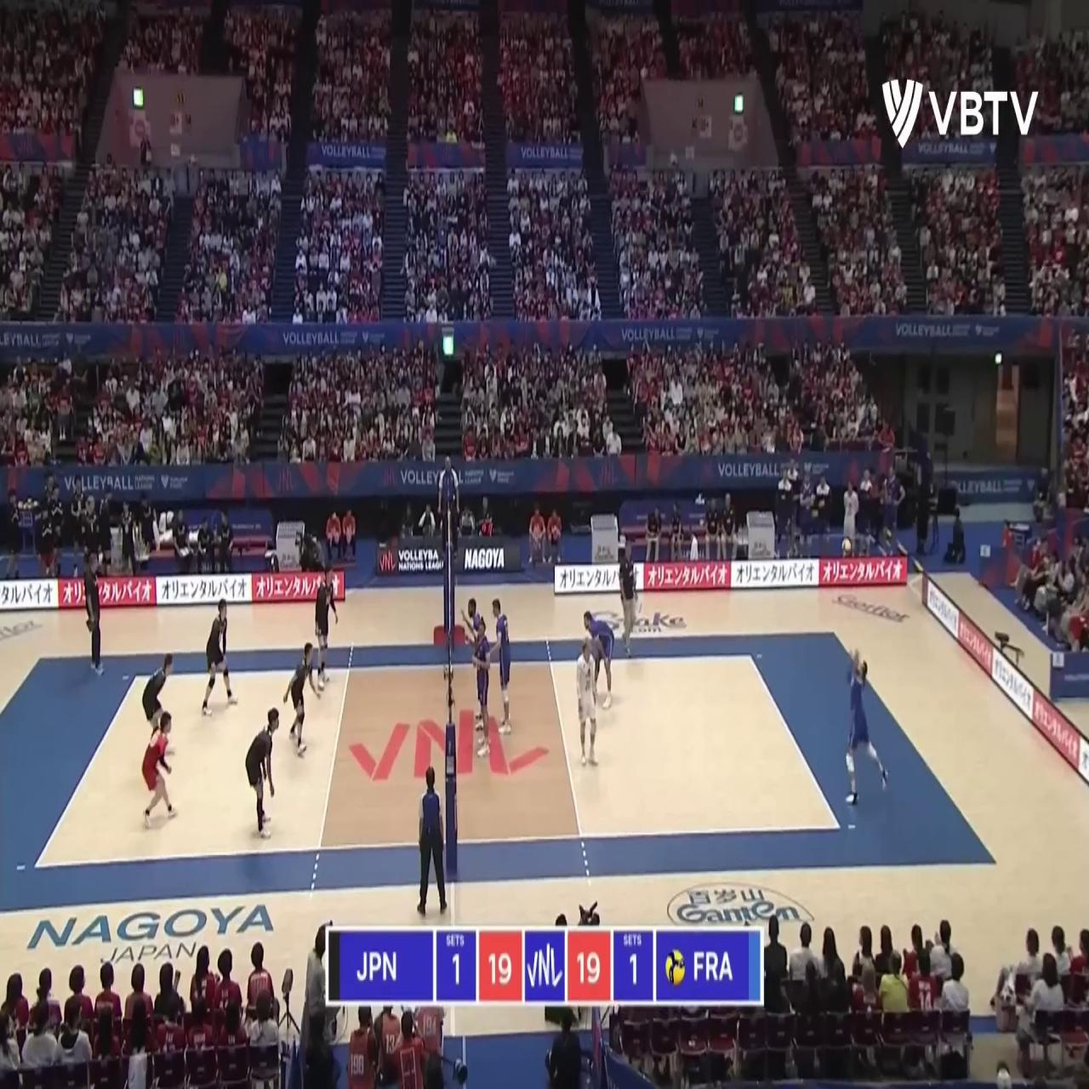ball: (842, 540, 852, 559)
